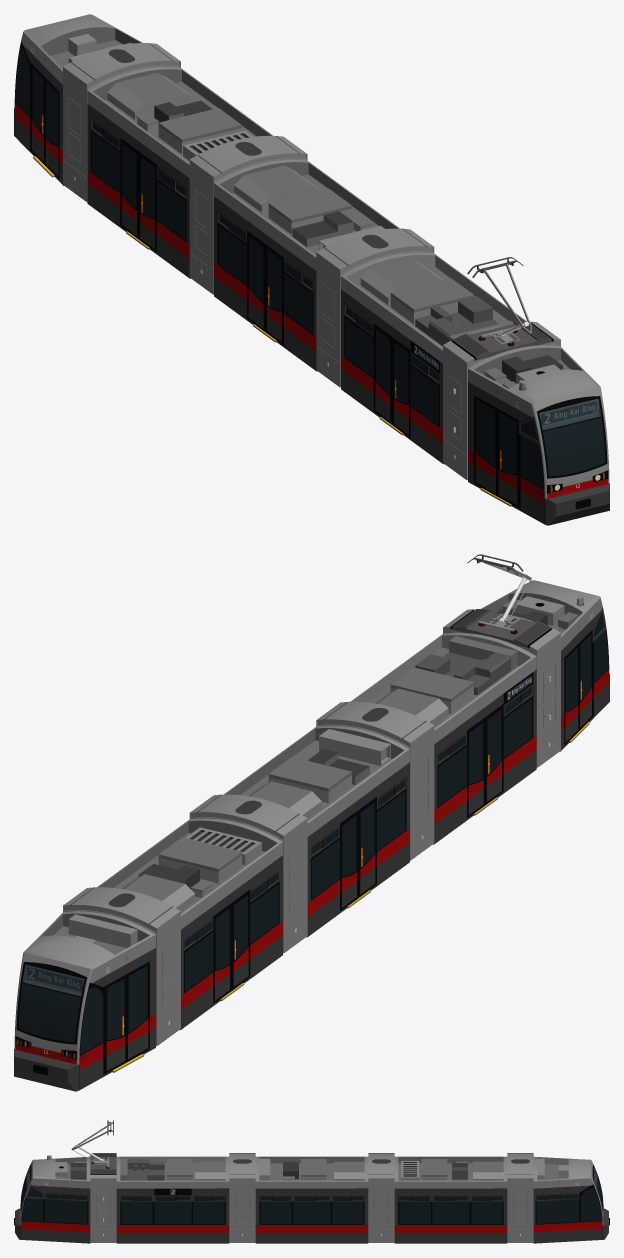
3 renders of one model, top to bottom at view 1: azimuth 30°, elevation 25°; view 2: azimuth 150°, elevation 25°; view 3: azimuth 270°, elevation 25°, orthographic. The views are drawn at different scales.
Visible parts, largest first — view 1: Group_039, Group_035, Group_002, Group_003, Group_037, Group_023, Group_027, Group_031, Group_010; view 2: Group_037, Group_002, Group_035, Group_003, Group_039, Group_027, Group_031, Group_023, Group_010; view 3: Group_002, Group_035, Group_003, Group_039, Group_037, Layer0_001, Group_031, Group_027, Group_023, Group_010.
Boxes of the visible parts, x1,y1,x2,y2 form: Group_039: (468, 345, 609, 525); Group_035: (341, 252, 526, 464); Group_002: (214, 159, 399, 371); Group_003: (87, 66, 271, 278); Group_037: (14, 14, 142, 185); Group_023: (316, 228, 434, 387); Group_027: (189, 135, 307, 294); Group_031: (63, 43, 180, 201); Group_010: (443, 321, 560, 479); Group_037: (14, 911, 155, 1091); Group_002: (224, 725, 409, 937); Group_035: (351, 632, 536, 844); Group_003: (99, 820, 282, 1030); Group_039: (481, 580, 609, 751); Group_027: (189, 794, 307, 953); Group_031: (63, 887, 180, 1045); Group_023: (316, 701, 434, 860); Group_010: (443, 609, 560, 767); Group_002: (255, 1156, 368, 1243); Group_035: (116, 1156, 229, 1243); Group_003: (394, 1156, 507, 1224); Group_039: (14, 1155, 90, 1243); Group_037: (533, 1156, 609, 1243); Layer0_001: (394, 1167, 507, 1243); Group_031: (507, 1153, 533, 1242); Group_027: (368, 1153, 394, 1242); Group_023: (229, 1153, 255, 1242); Group_010: (90, 1153, 116, 1242).
Bounding box in the file's own units: 2488 × 4891 × 24227.
